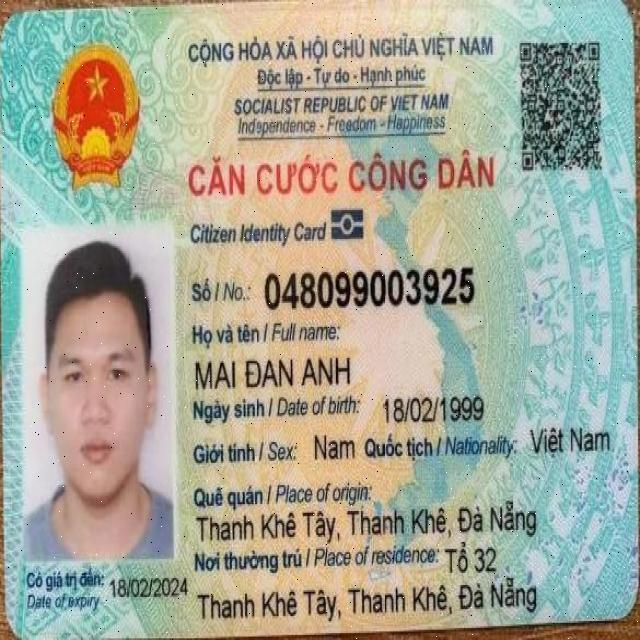current_place: (199, 574, 560, 634), (442, 538, 513, 578)
dob: (380, 391, 487, 427)
expire_date: (107, 563, 192, 609)
gender: (310, 429, 360, 464)
id: (259, 262, 478, 312)
name: (188, 351, 361, 393)
nationality: (524, 411, 620, 460)
origin_place: (196, 502, 554, 545)
